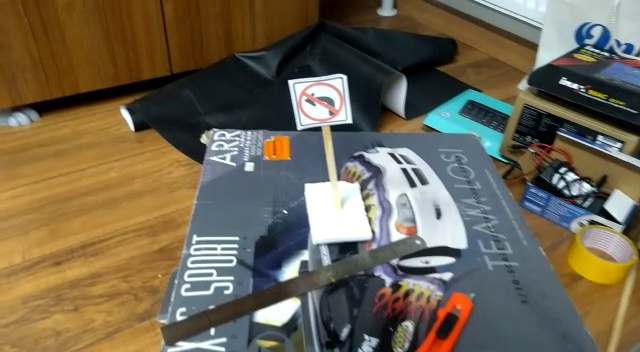sola_donulmez: (295, 76, 343, 122)
